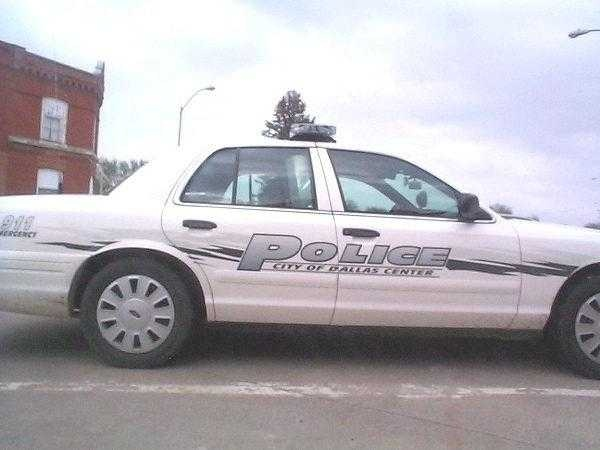Police Car: (3, 94, 600, 370)
